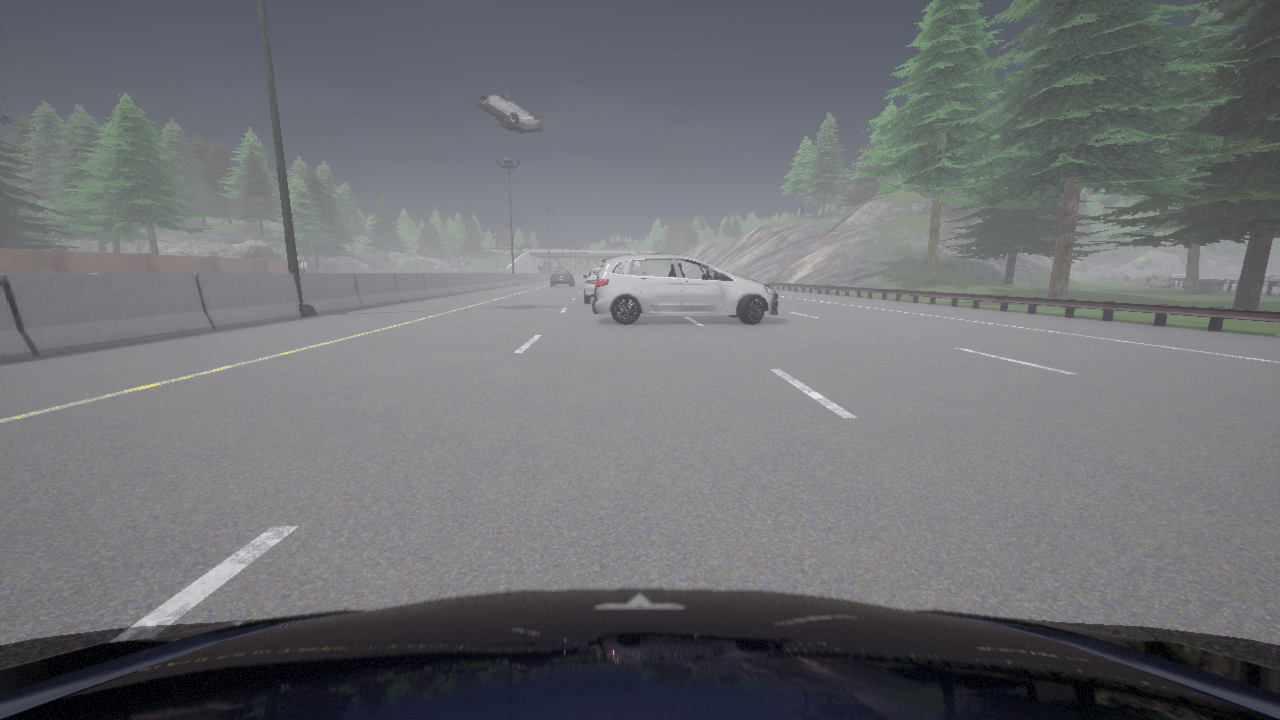cyclist: (0, 588, 1279, 719), (592, 254, 778, 324), (476, 94, 542, 133), (583, 267, 600, 303), (550, 271, 574, 286)
